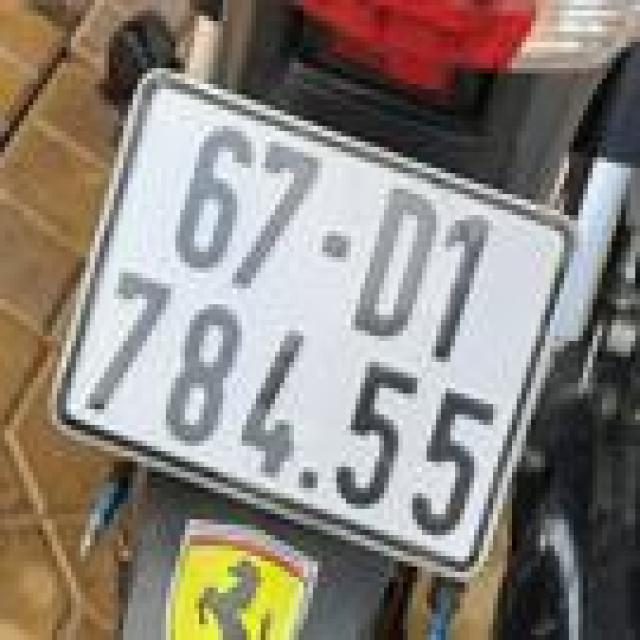1: (413, 204, 515, 386)
4: (224, 316, 338, 498)
5: (398, 381, 514, 551), (323, 352, 419, 531)
6: (162, 115, 263, 303)
7: (67, 269, 190, 434), (228, 146, 342, 305)
8: (154, 291, 266, 461)
D: (320, 178, 459, 375)
